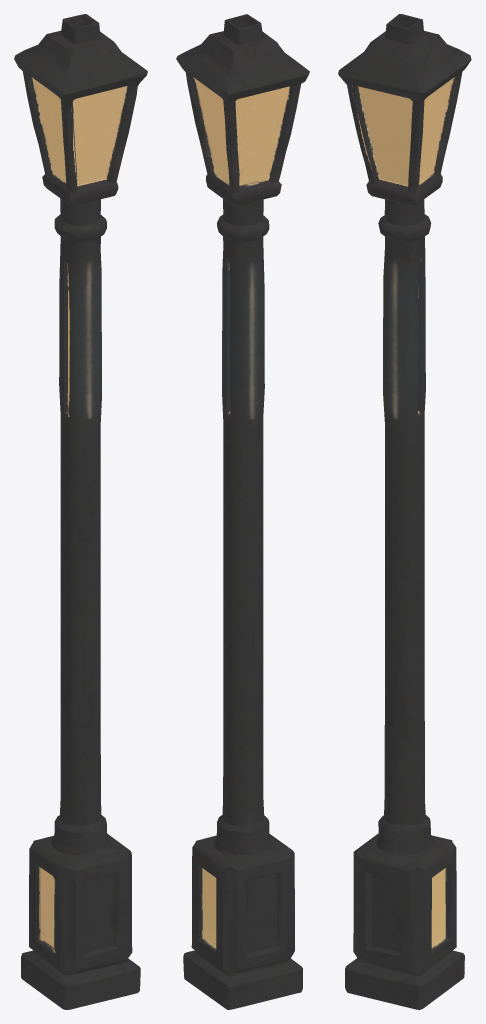
File: lamp_post.glb
3 renders of one model, left to right at view 1: azimuth 30°, elevation 25°; view 2: azimuth 210°, elevation 25°; view 3: azimuth 330°, elevation 25°, orthographic.
Parts seen in each view (by area): view 1: body, light; view 2: body, light; view 3: body, light.
Boxes of the visible parts, left/top/right/bottom form: body: left=14, top=14, right=147, bottom=1009; light: left=32, top=77, right=127, bottom=184; body: left=176, top=14, right=309, bottom=1009; light: left=195, top=79, right=290, bottom=186; body: left=338, top=14, right=471, bottom=1009; light: left=358, top=79, right=452, bottom=185.
Size of the model in its own units: 0.3989 by 4.2 by 0.3997.
1 material, 1 textured.
